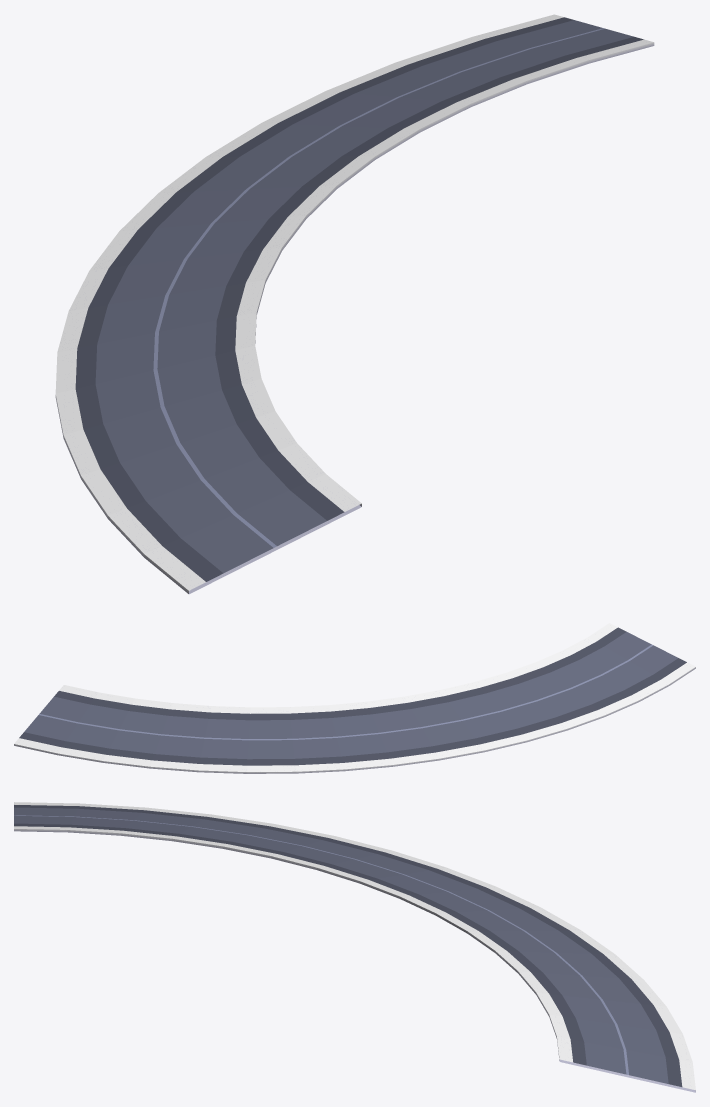
Rendered from road-Turn-HalfBankedLeft-HalfBankedLeft-Even-Right-Size5.glb.
The picture shows the model from 3 angles, top to bottom: view 1: azimuth 30°, elevation 25°; view 2: azimuth 150°, elevation 25°; view 3: azimuth 270°, elevation 25°; orthographic projection. The views are drawn at different scales.
Visible parts, largest first — view 1: road-Turn-HalfBankedLeft-HalfBankedLeft-Even-Right-Size5; view 2: road-Turn-HalfBankedLeft-HalfBankedLeft-Even-Right-Size5; view 3: road-Turn-HalfBankedLeft-HalfBankedLeft-Even-Right-Size5.
Boxes of the visible parts, x1,y1,x2,y2 form: road-Turn-HalfBankedLeft-HalfBankedLeft-Even-Right-Size5: (55, 14, 654, 594); road-Turn-HalfBankedLeft-HalfBankedLeft-Even-Right-Size5: (14, 623, 695, 773); road-Turn-HalfBankedLeft-HalfBankedLeft-Even-Right-Size5: (14, 802, 695, 1092).
Size of the model in its own units: 5 by 0.27 by 5.
1 material, 1 textured.
